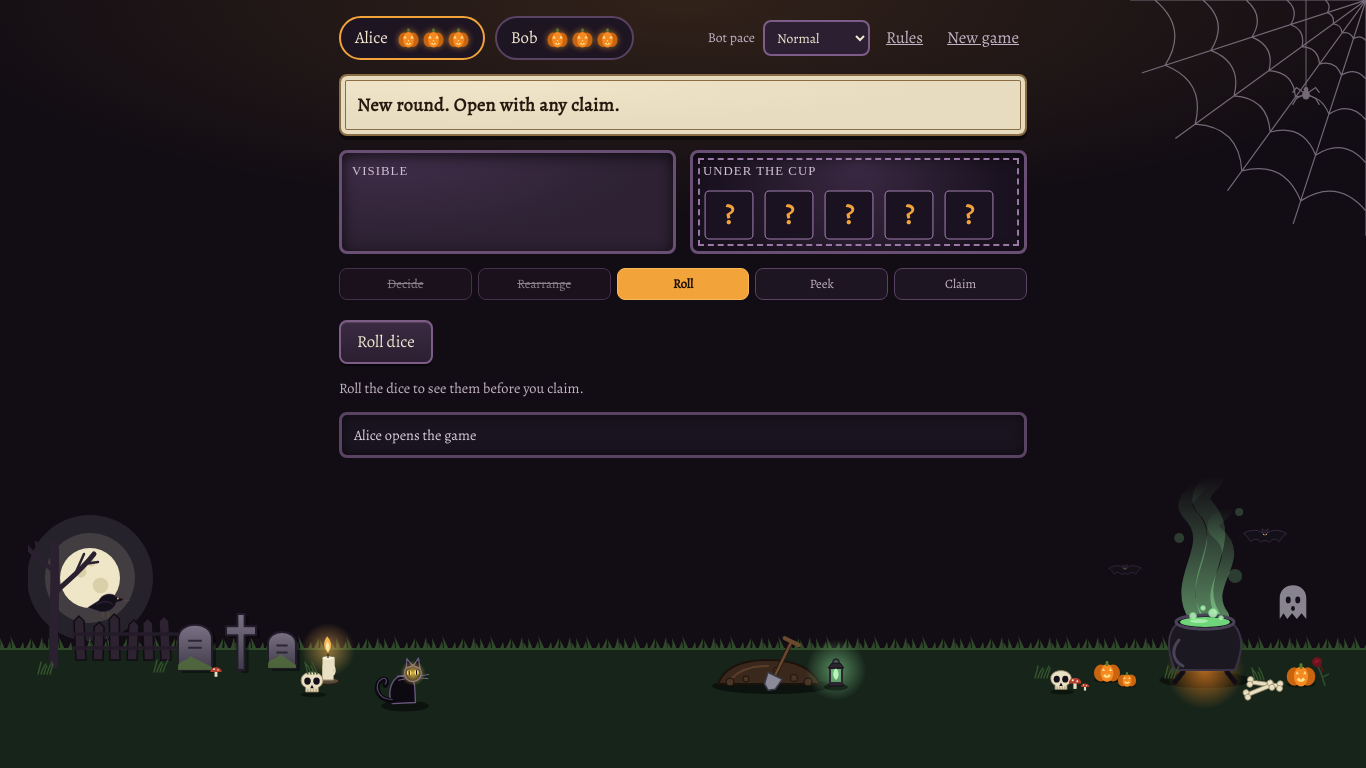
Table › has no Peek button in basic play, because the roll takes the peek
The width and height of the screenshot is (1366, 768).
Expected: the text "Make your claim" is not shown
Click the button "Roll dice" at [386, 342], box [339, 320, 433, 364]
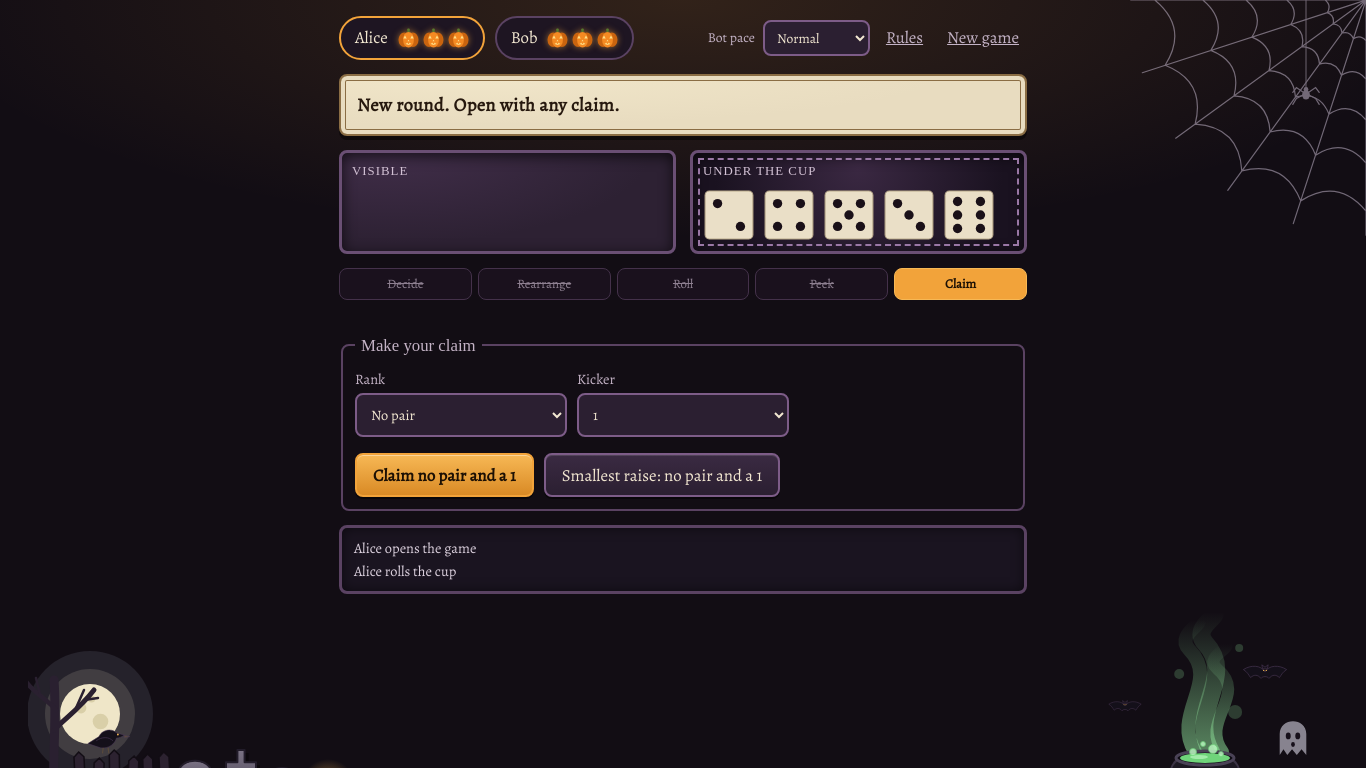
Expected: the button "Smallest raise: no pair and a 1" is shown, [544, 453, 780, 497]
